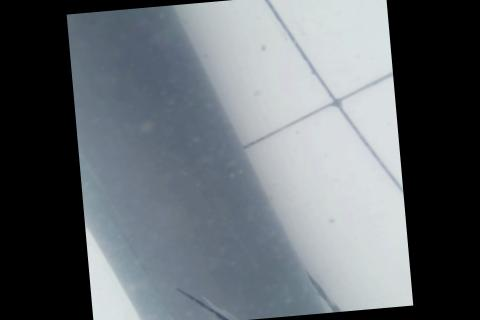keretakan: (175, 274, 311, 320)
